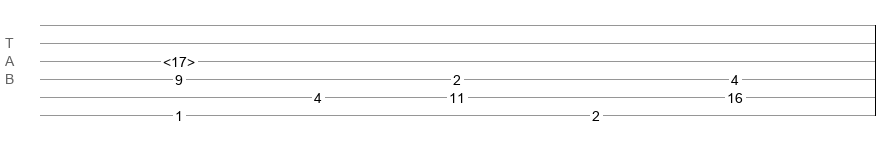1: (175, 108, 183, 118)
11: (449, 90, 465, 100)
16: (727, 90, 743, 100)
2: (453, 72, 461, 82), (592, 108, 600, 118)
4: (314, 90, 322, 100), (731, 72, 739, 82)
9: (175, 72, 183, 82)
harmonic: (163, 54, 195, 64)
